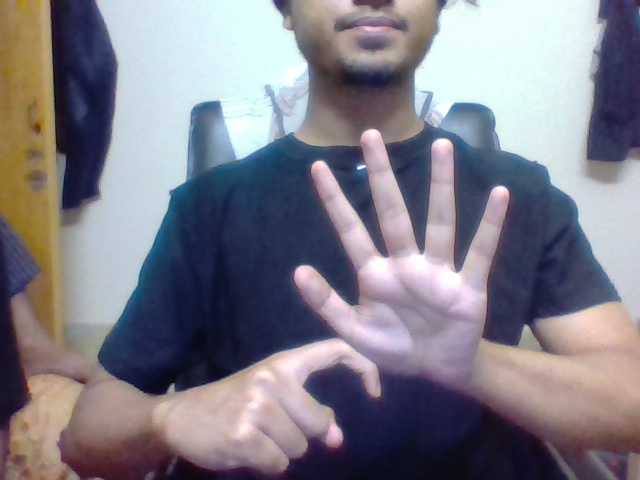R: (270, 331, 386, 453)
